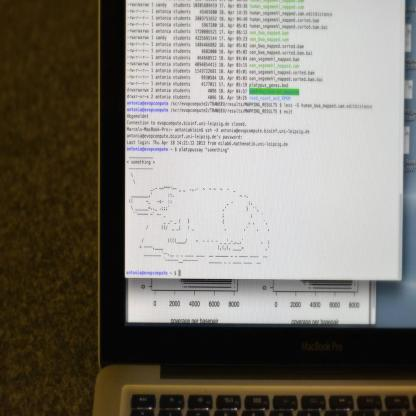board: (83, 8, 415, 416)
